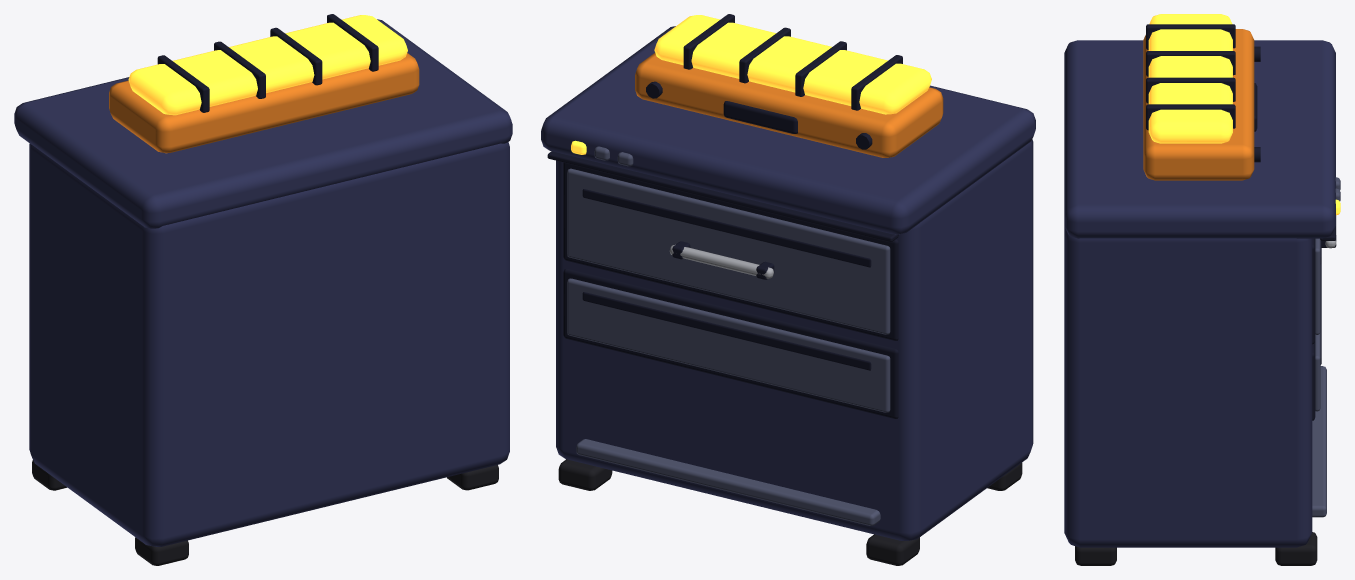
File: prop.props_workrooms.utility_console.glb
3 renders of one model, left to right at view 1: azimuth 30°, elevation 25°; view 2: azimuth 150°, elevation 25°; view 3: azimuth 270°, elevation 25°, orthographic. The views are drawn at different scales.
Visible parts, largest first — view 1: prop.props_workrooms.utility_console; view 2: prop.props_workrooms.utility_console; view 3: prop.props_workrooms.utility_console.
Part boxes in pixels (left/top/right/bottom): prop.props_workrooms.utility_console: left=14, top=14, right=512, bottom=565; prop.props_workrooms.utility_console: left=541, top=14, right=1035, bottom=565; prop.props_workrooms.utility_console: left=1064, top=14, right=1340, bottom=565.
Bounding box in the file's own units: 0.788 × 0.88 × 0.524.
